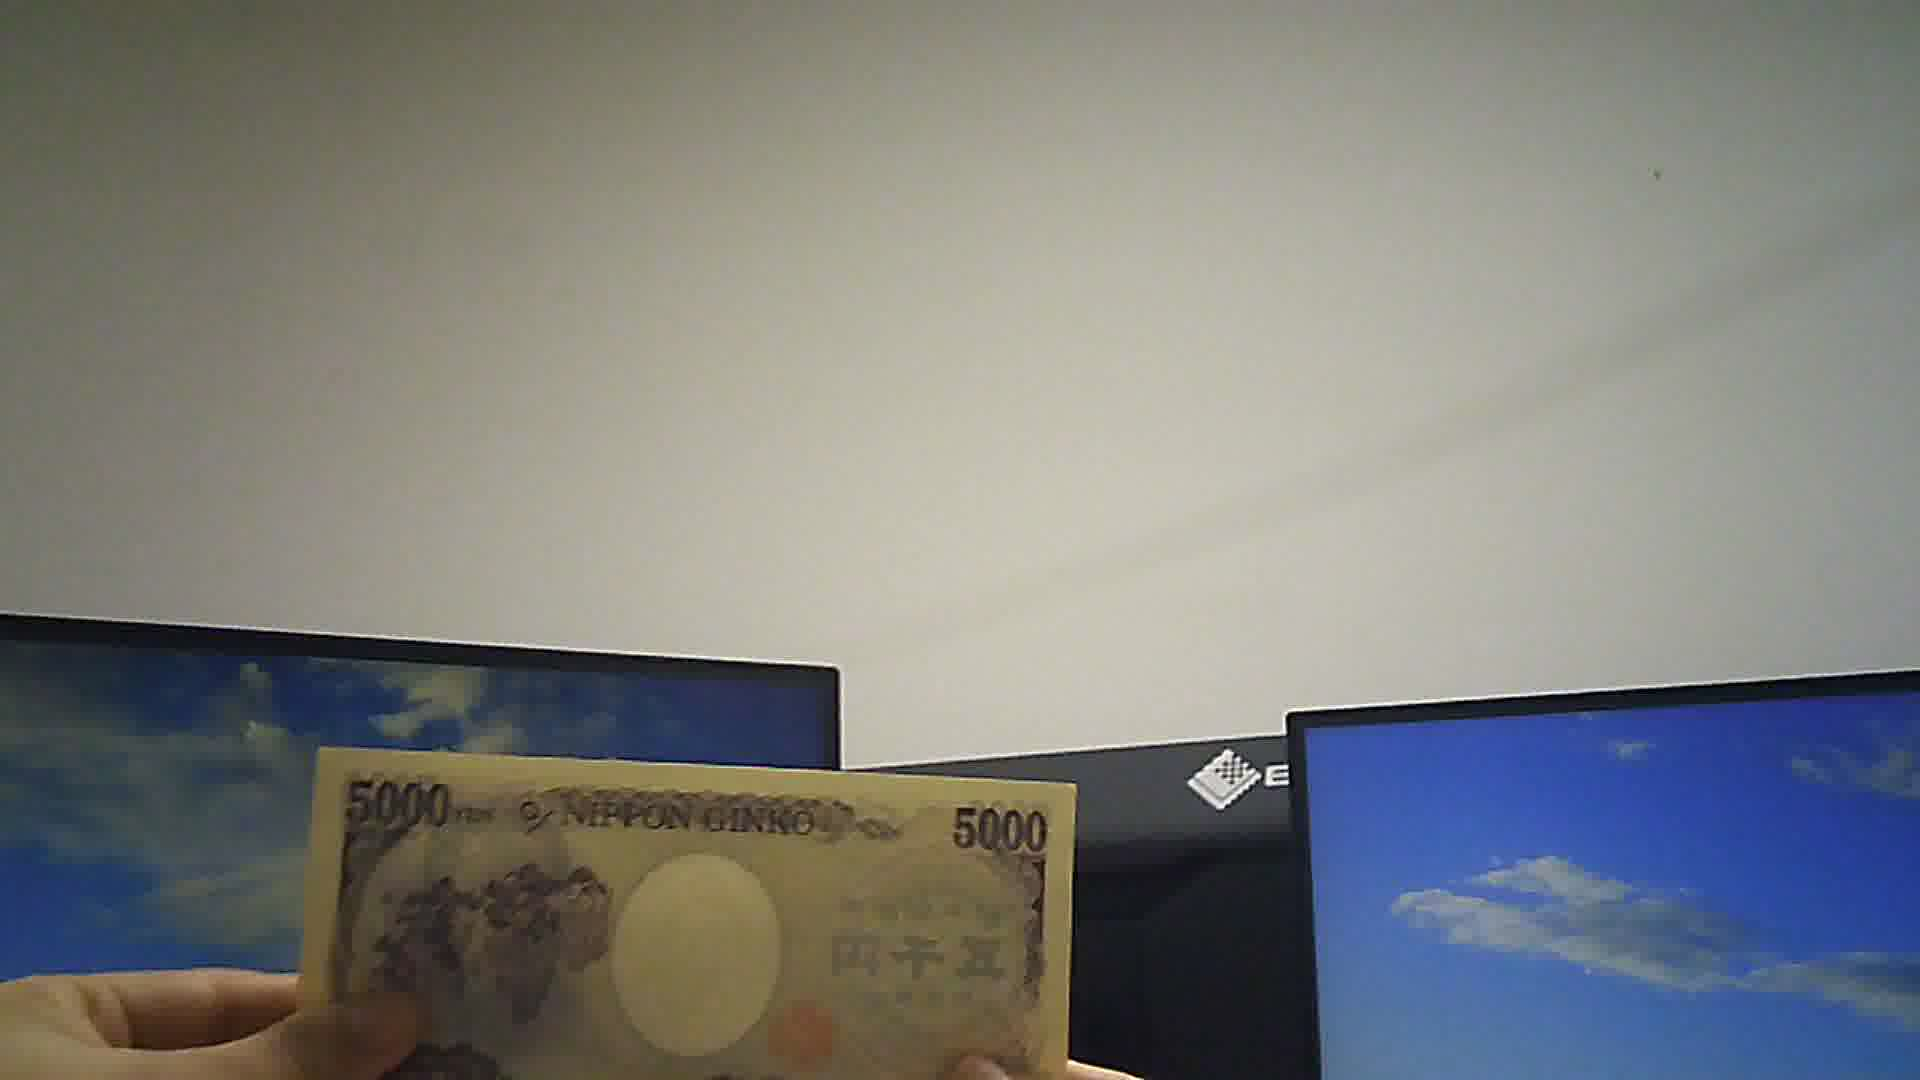5,000 Yen: (301, 738, 1048, 1079)
